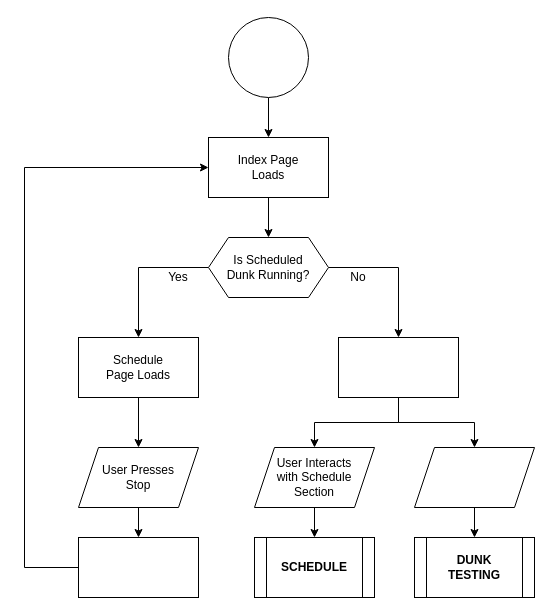
Image size: 552x615. Some labels were removed from this diagram. Each missing label, with the centre of its shape:
"Dunk Schedule Stopped + Tag Raised" goes at (x=138, y=567).
"No Schedule Page Loads" goes at (x=398, y=367).
"Start" goes at (x=268, y=57).
"User Interacts with Testing Section" goes at (x=474, y=477).
